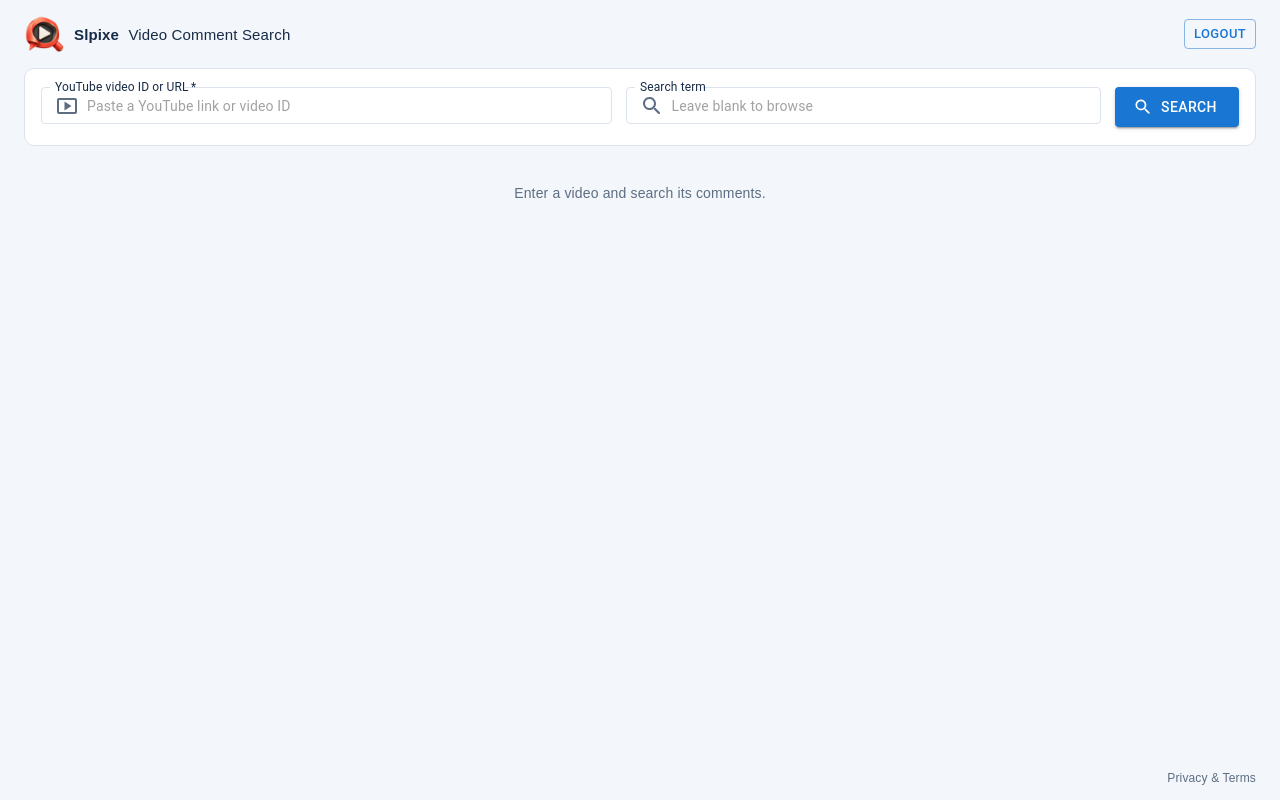
VideoCommentsSearch › handles empty000000
Type "empty000000" into the field labelled "YouTube video ID or URL *" at point(349, 106), box [87,87,612,124]
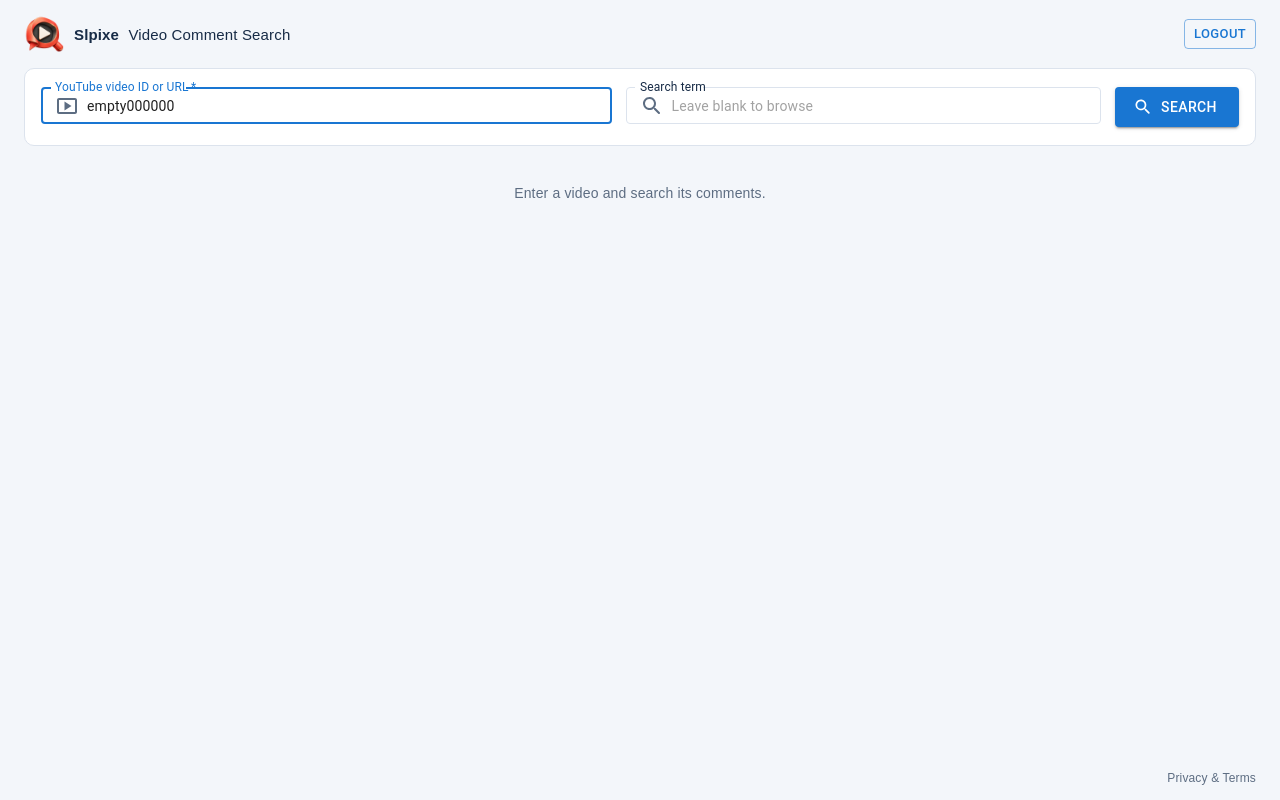
Click the button "Search" at point(1177, 107), box [1115,87,1239,127]
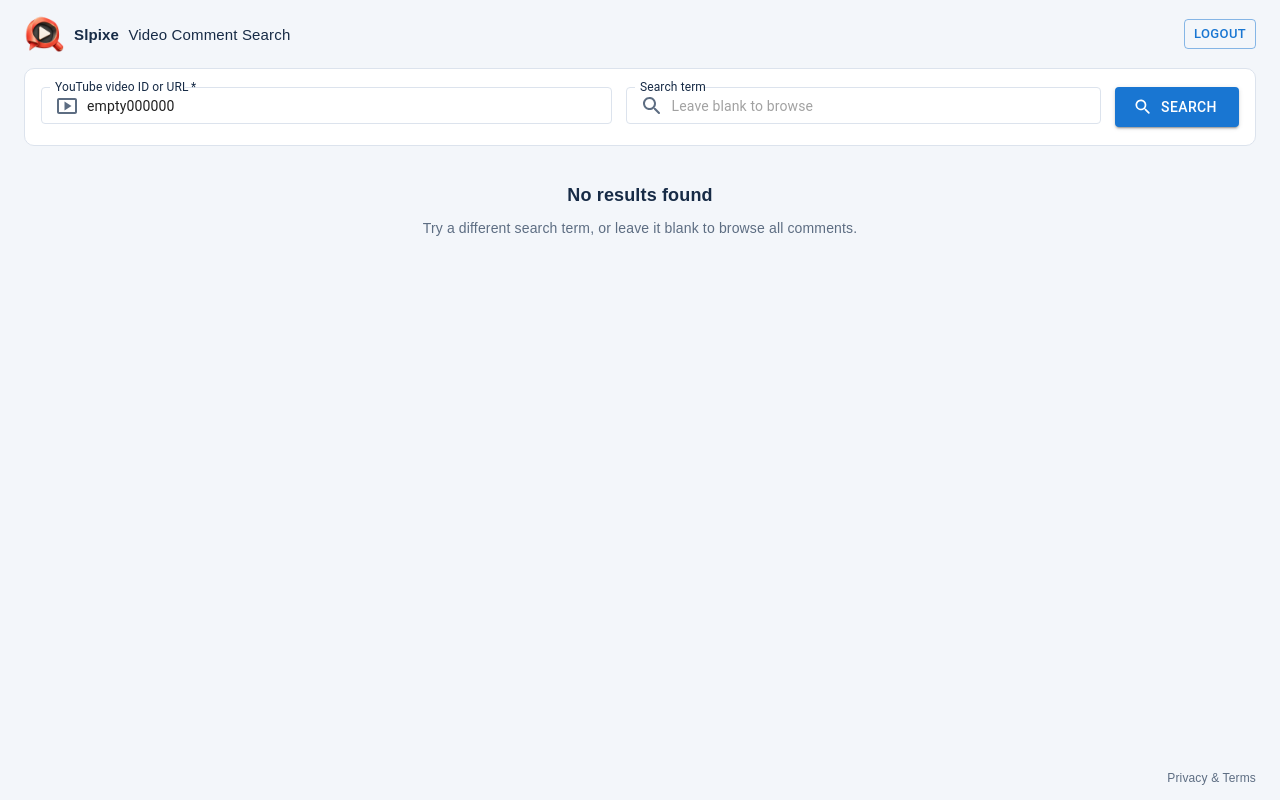
Result: the heading "No results found" is shown at [567,185,713,205]
